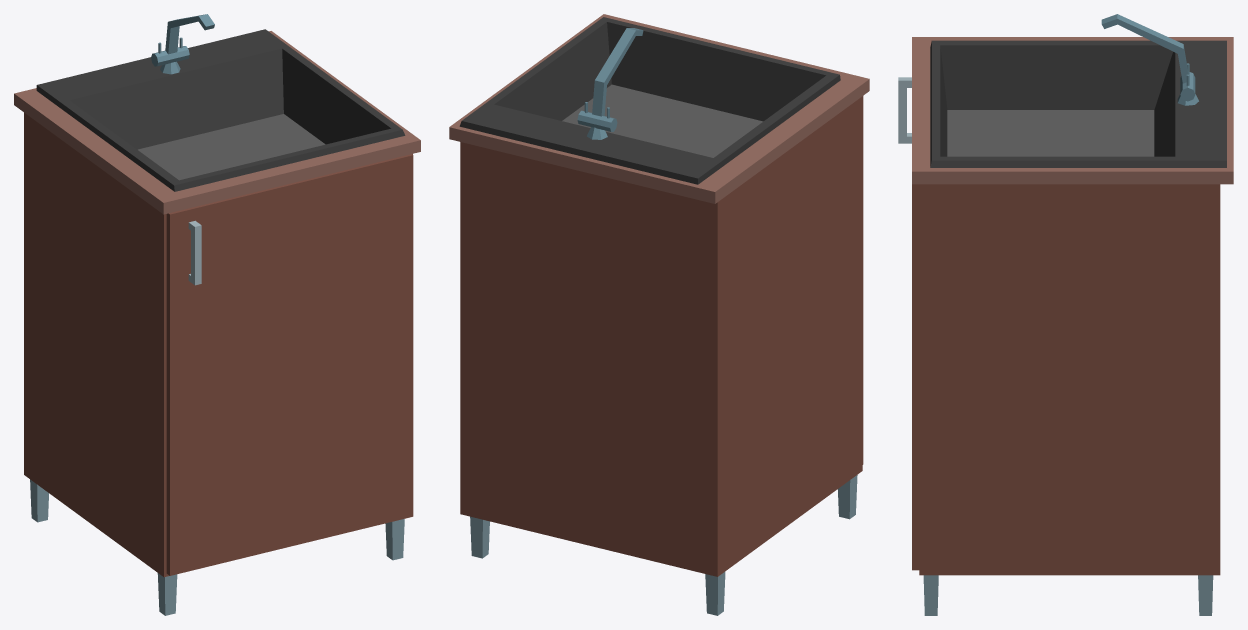
Rendered from kitchen_item_062.glb.
The picture shows the model from 3 angles, left to right: view 1: azimuth 30°, elevation 25°; view 2: azimuth 150°, elevation 25°; view 3: azimuth 270°, elevation 25°; orthographic projection. The views are drawn at different scales.
Parts seen in each view (by area): view 1: kitchen_item_062; view 2: kitchen_item_062; view 3: kitchen_item_062.
Part boxes in pixels (x1,y1,x2,y2): kitchen_item_062: (14, 14, 420, 615); kitchen_item_062: (449, 14, 869, 615); kitchen_item_062: (898, 14, 1233, 615).
Bounding box in the file's own units: 0.6701 × 1.25 × 0.7033.
Materials: 1 (1 with a texture image).
